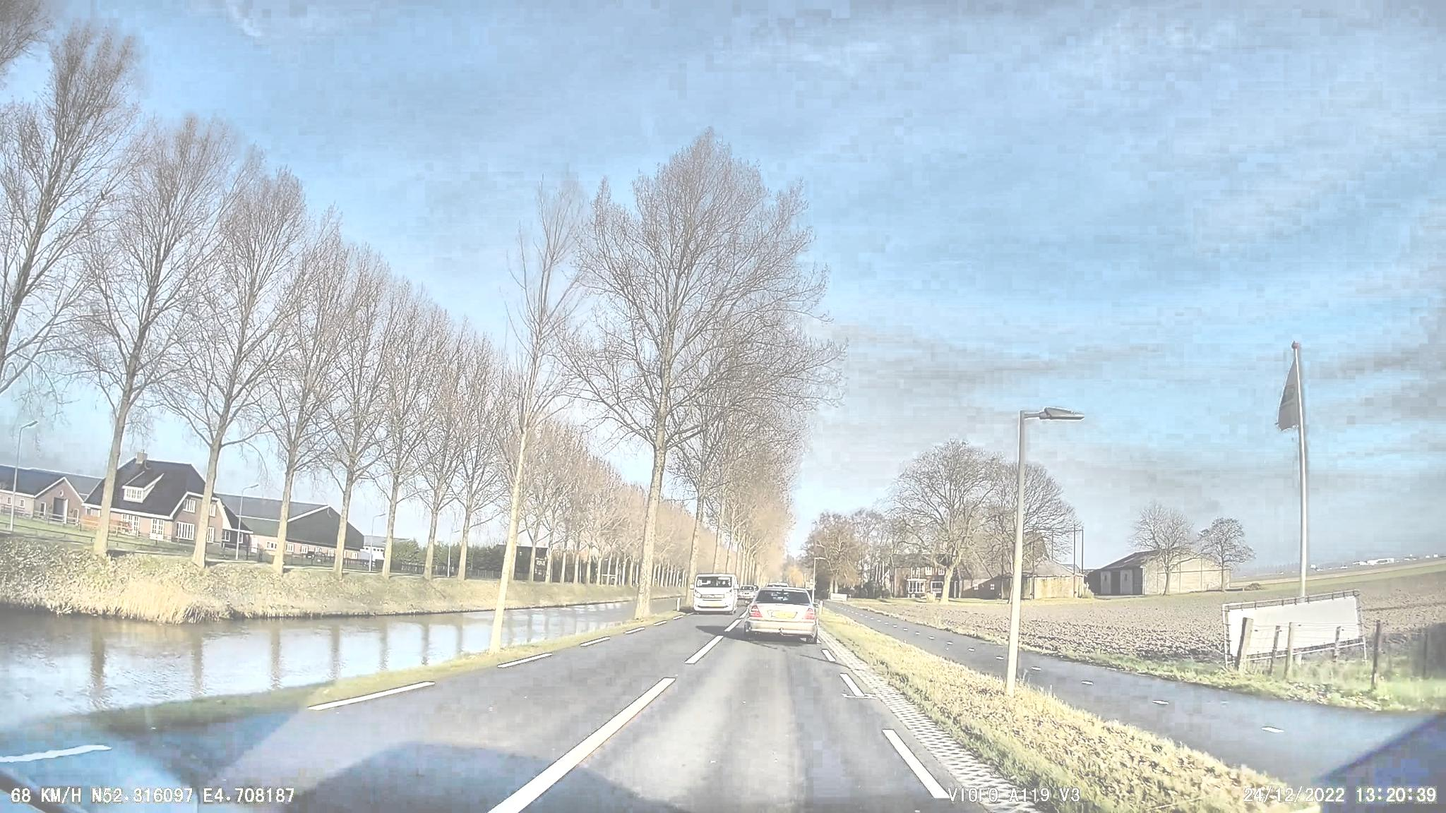Roads: (0, 610, 985, 813)
